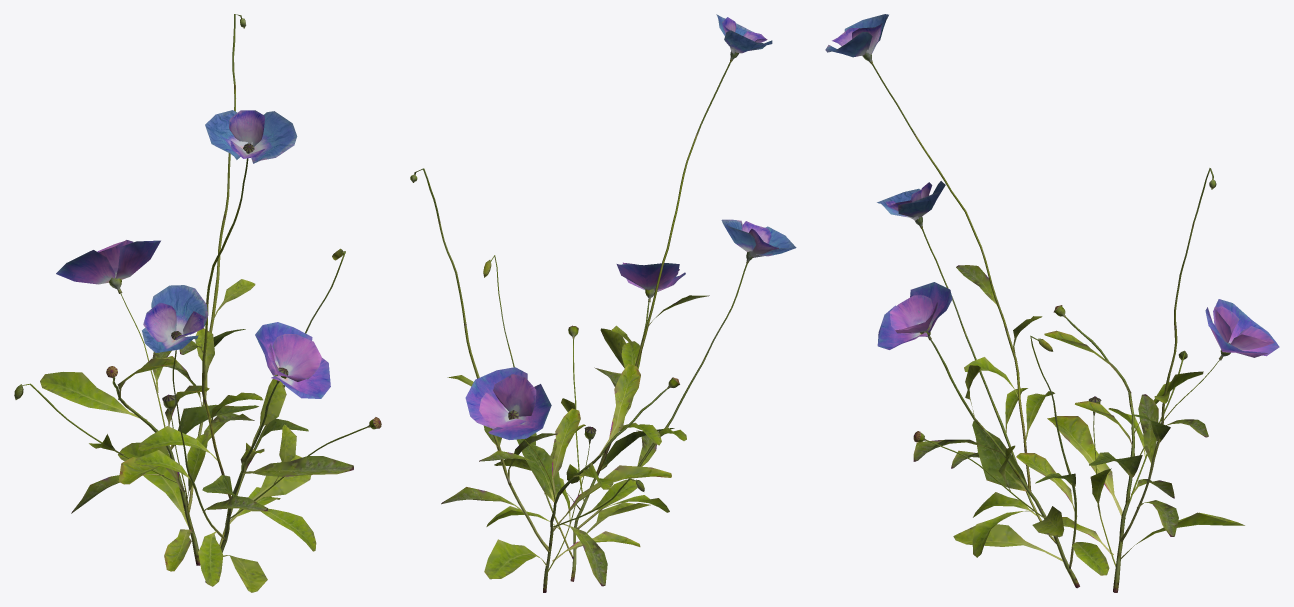
File: Poppy_bush_normal_lightblue.glb
The picture shows the model from 3 angles, left to right: view 1: azimuth 30°, elevation 25°; view 2: azimuth 150°, elevation 25°; view 3: azimuth 270°, elevation 25°; orthographic projection. The views are drawn at different scales.
Parts seen in each view (by area): view 1: bushhhh; view 2: bushhhh; view 3: bushhhh.
Part boxes in pixels (x1=…): bushhhh: x1=14, y1=14, x2=381, y2=592; bushhhh: x1=410, y1=14, x2=796, y2=592; bushhhh: x1=825, y1=14, x2=1279, y2=592.
Bounding box in the file's own units: 2.3 × 4.57 × 3.53.
1 material, 1 textured.
